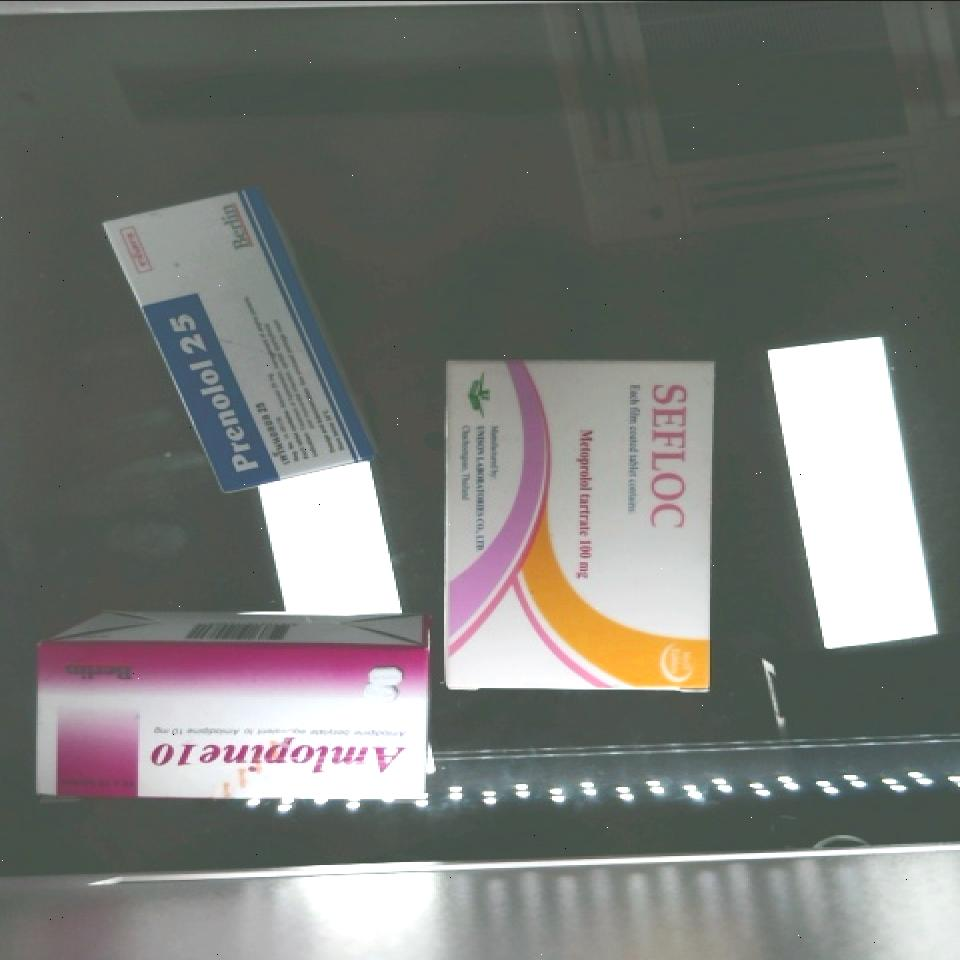medicine_box: (90, 157, 379, 526), (442, 358, 716, 689), (36, 640, 433, 803)
medicine_label_obb: (139, 285, 284, 502), (139, 732, 407, 793), (637, 363, 711, 533)
